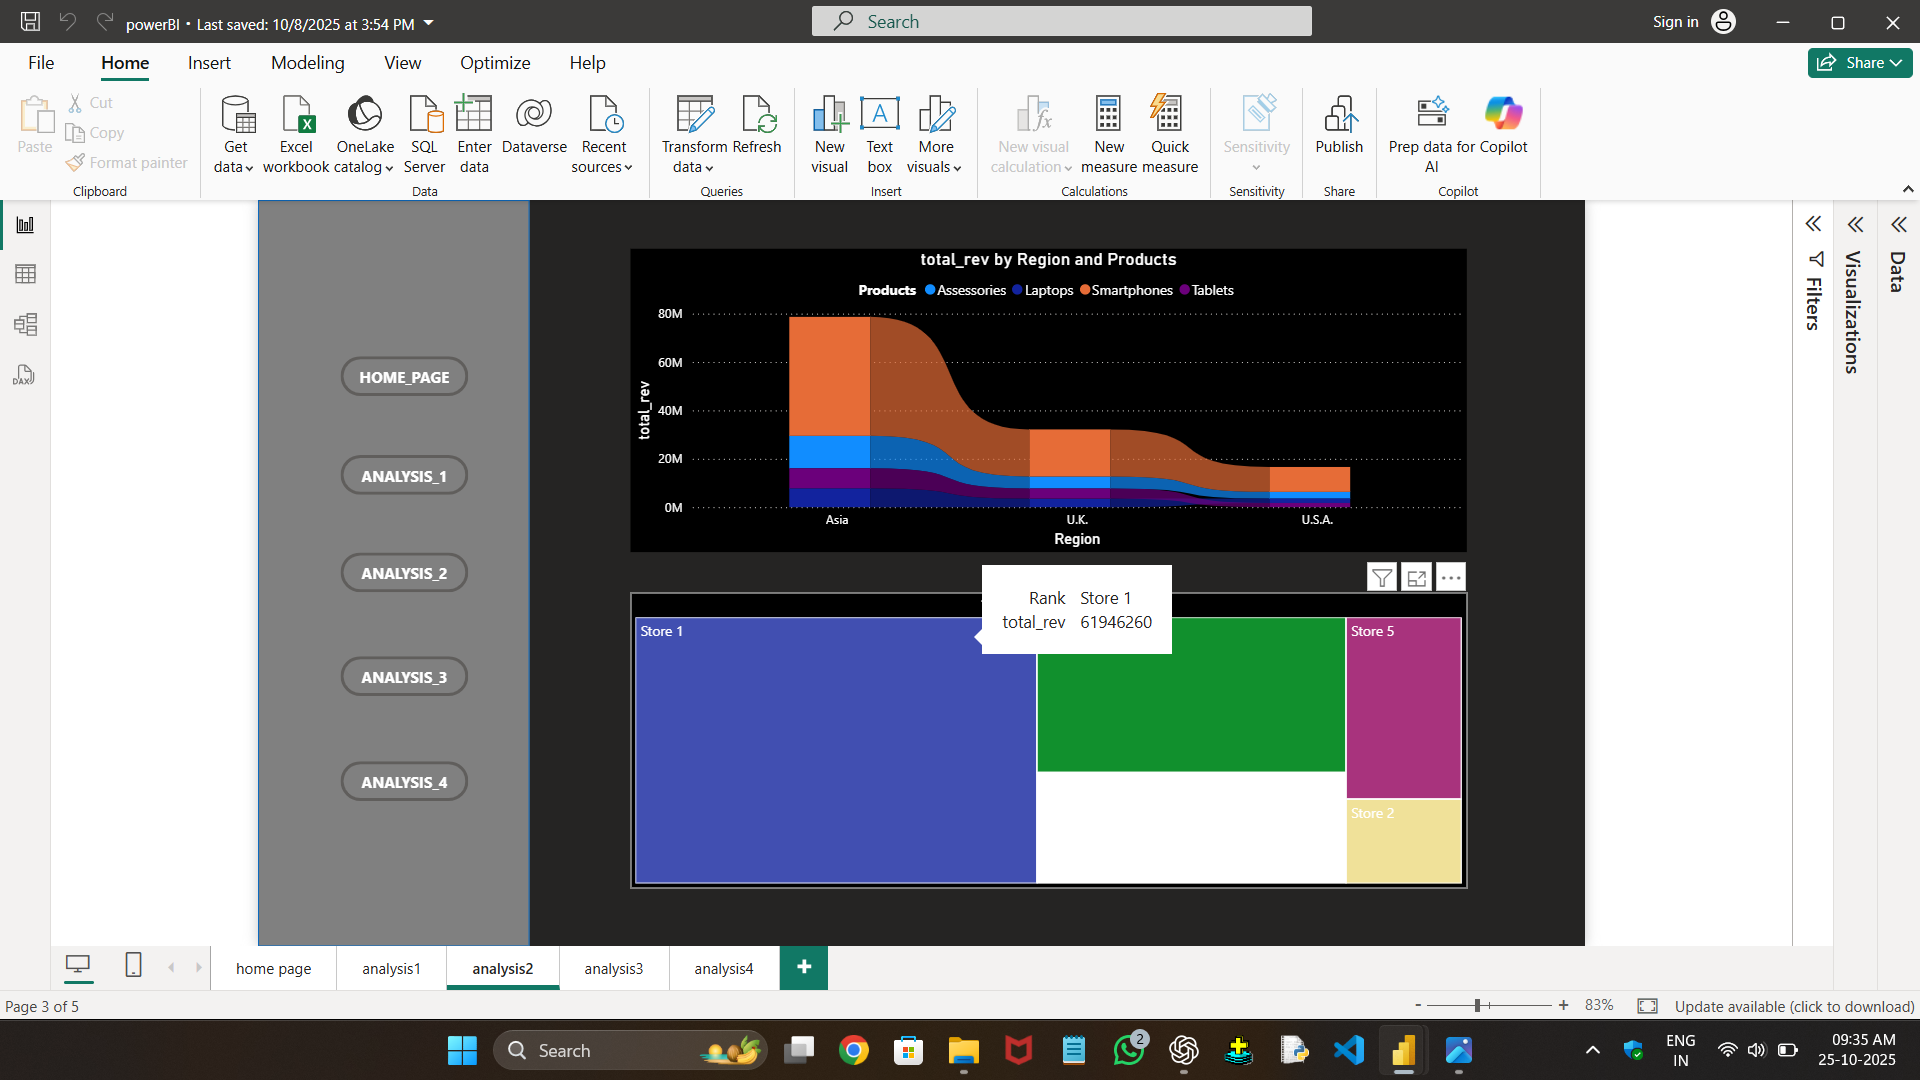

Layout of this report page (visuals, bound fields, positions):
{"tool":"powerbi","page":{"name":"analysis2","canvas":[1280,720],"ordinal":2},"visuals":[{"type":"shape","box":[0,0,262.1,720.4],"z":0},{"type":"actionButton","box":[79.6,150.9,123.5,38.4],"z":1000},{"type":"actionButton","box":[79.6,245.6,123.5,38.4],"z":2000},{"type":"actionButton","box":[79.6,340.3,123.5,38.4],"z":3000},{"type":"actionButton","box":[79.6,440.5,123.5,38.4],"z":4000},{"type":"actionButton","box":[79.6,542,123.5,38.4],"z":5000},{"type":"ribbonChart","fields":{"Category":["DataSet.Region"],"Y":["DataSet.total_rev"],"Series":["DataSet.Products"]},"box":[359.5,47.1,807.1,293.2],"z":6000},{"type":"treemap","fields":{"Group":["DataSet.Rank"],"Values":["DataSet.total_rev"]},"box":[359.5,378.8,807.1,285.9],"z":7000}]}

Visuals, with their boxes on the page's 1280x720 design canvas (x1, y1, x2, y2). These are canvas units, not pixel positions in the 1920x1080 screenshot, which may show the page scaled, cropped or inside an application window:
shape: [0, 0, 262, 720]
actionButton: [80, 151, 203, 189]
actionButton: [80, 246, 203, 284]
actionButton: [80, 340, 203, 379]
actionButton: [80, 440, 203, 479]
actionButton: [80, 542, 203, 580]
ribbonChart - DataSet.Region x DataSet.total_rev: [360, 47, 1167, 340]
treemap - DataSet.Rank x DataSet.total_rev: [360, 379, 1167, 665]
